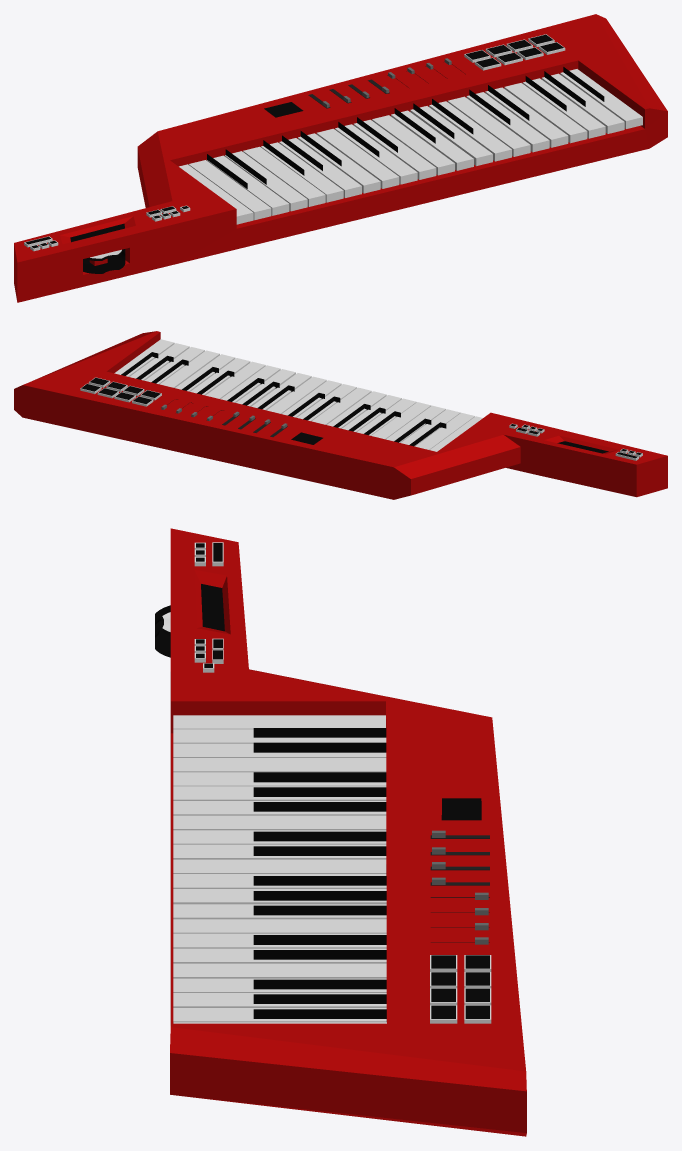
The model's file is Alesis Vortex 2.fbx.
3 views of the same model, one above another, from view 1: azimuth 30°, elevation 25°; view 2: azimuth 150°, elevation 25°; view 3: azimuth 270°, elevation 25° (orthographic). The views are drawn at different scales.
Visible parts, largest first — view 1: Cube.234; view 2: Cube.234; view 3: Cube.234.
Part boxes in pixels (x1,y1,x2,y2): Cube.234: [14, 14, 667, 302]; Cube.234: [14, 331, 667, 499]; Cube.234: [155, 528, 526, 1136].
Size of the model in its own units: 90.75 by 5.42 by 25.86.
